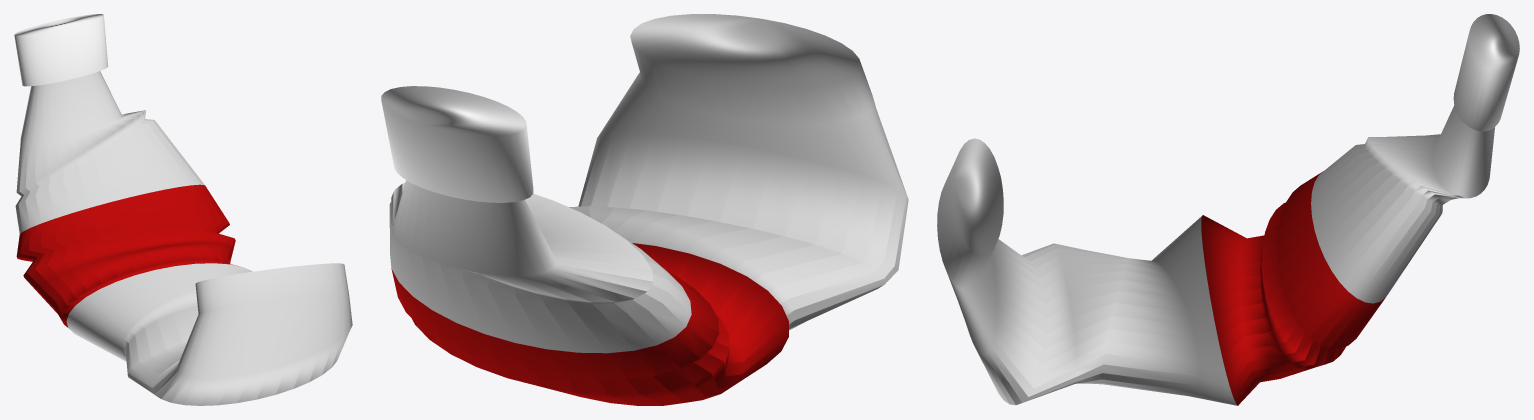
File: CrumpleBottle.fbx
3 views of the same model, side by side, from view 1: azimuth 30°, elevation 25°; view 2: azimuth 150°, elevation 25°; view 3: azimuth 270°, elevation 25° (orthographic). The views are drawn at different scales.
Visible parts, largest first — view 1: Cylinder.003; view 2: Cylinder.003; view 3: Cylinder.003.
Part boxes in pixels (bbox=[...]): Cylinder.003: bbox=[14, 14, 352, 405]; Cylinder.003: bbox=[381, 14, 908, 405]; Cylinder.003: bbox=[937, 14, 1519, 405].
Size of the model in its own units: 123 by 144 by 231.
